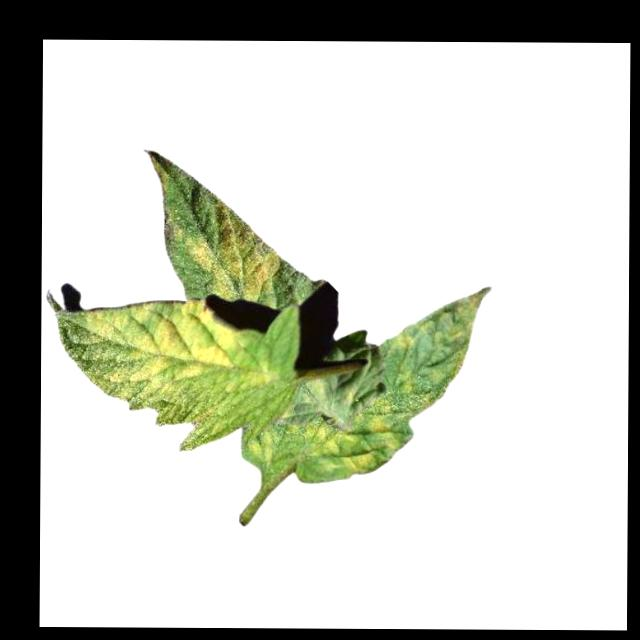Leaf_Mold: (79, 297, 236, 410), (189, 198, 280, 302), (288, 413, 351, 454), (238, 352, 280, 394), (371, 396, 399, 450), (340, 450, 375, 476), (389, 327, 413, 349)
